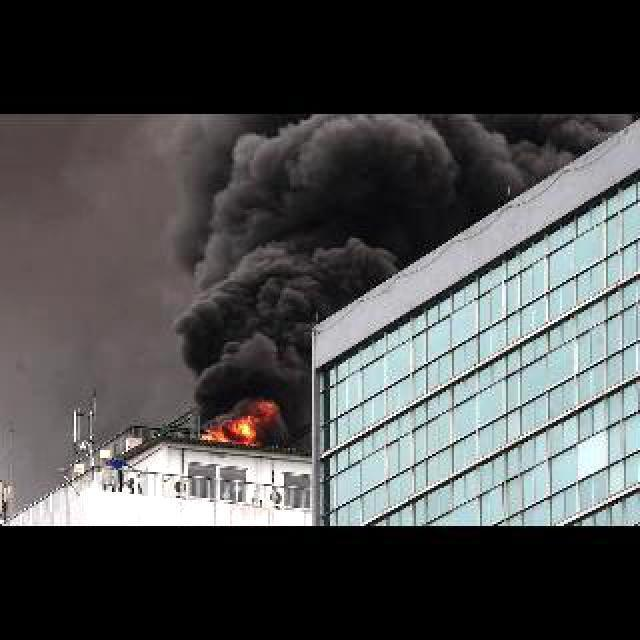Fire: (223, 413, 260, 448)
Smoke: (182, 106, 524, 302), (157, 110, 350, 398)
